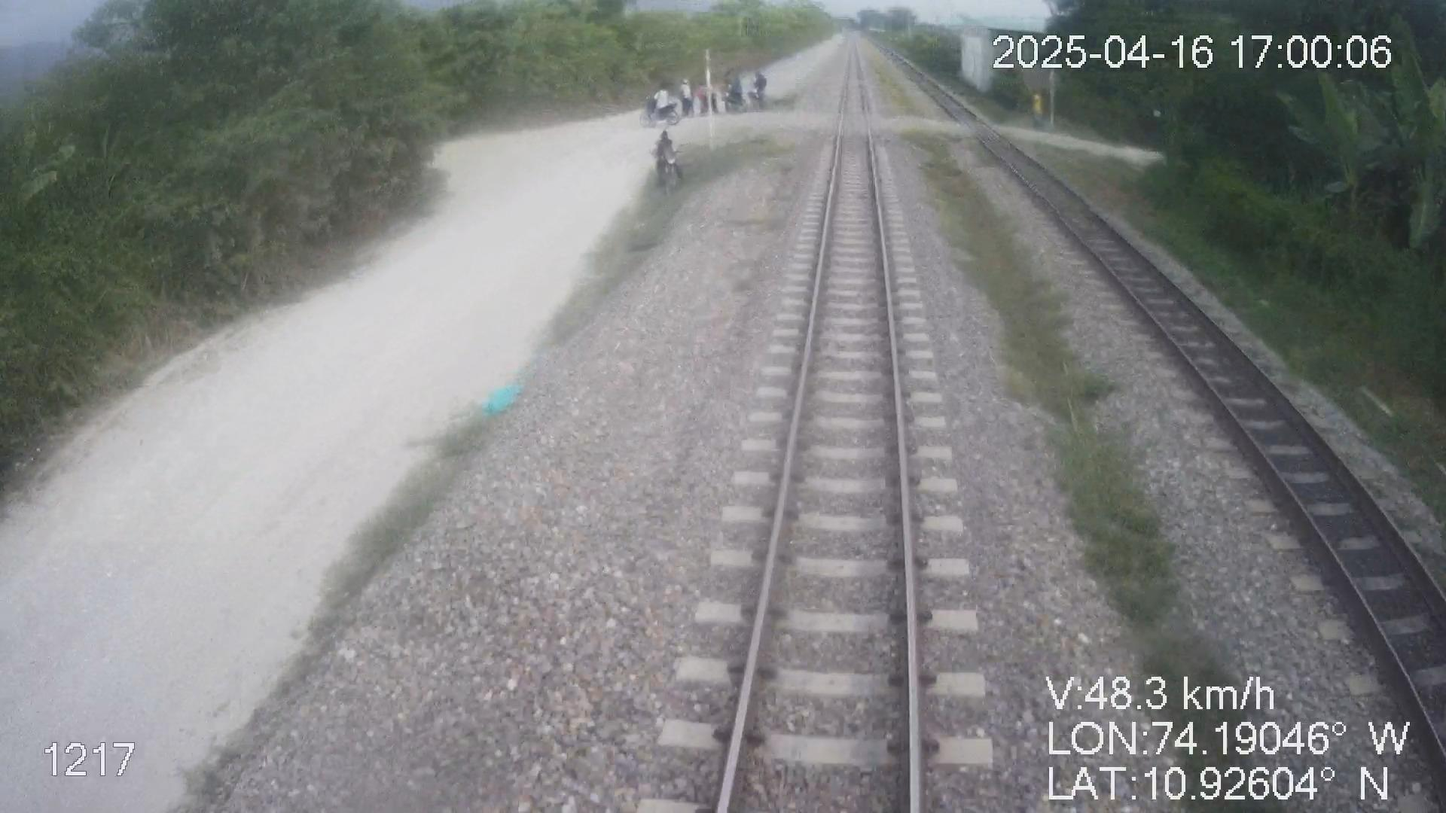Pasto: (0, 0, 837, 480), (859, 0, 1445, 602)
